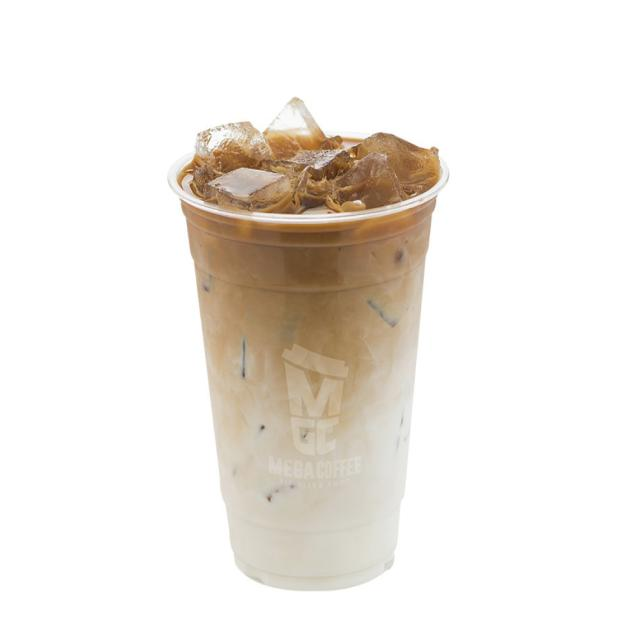recyclable: (155, 99, 464, 616)
